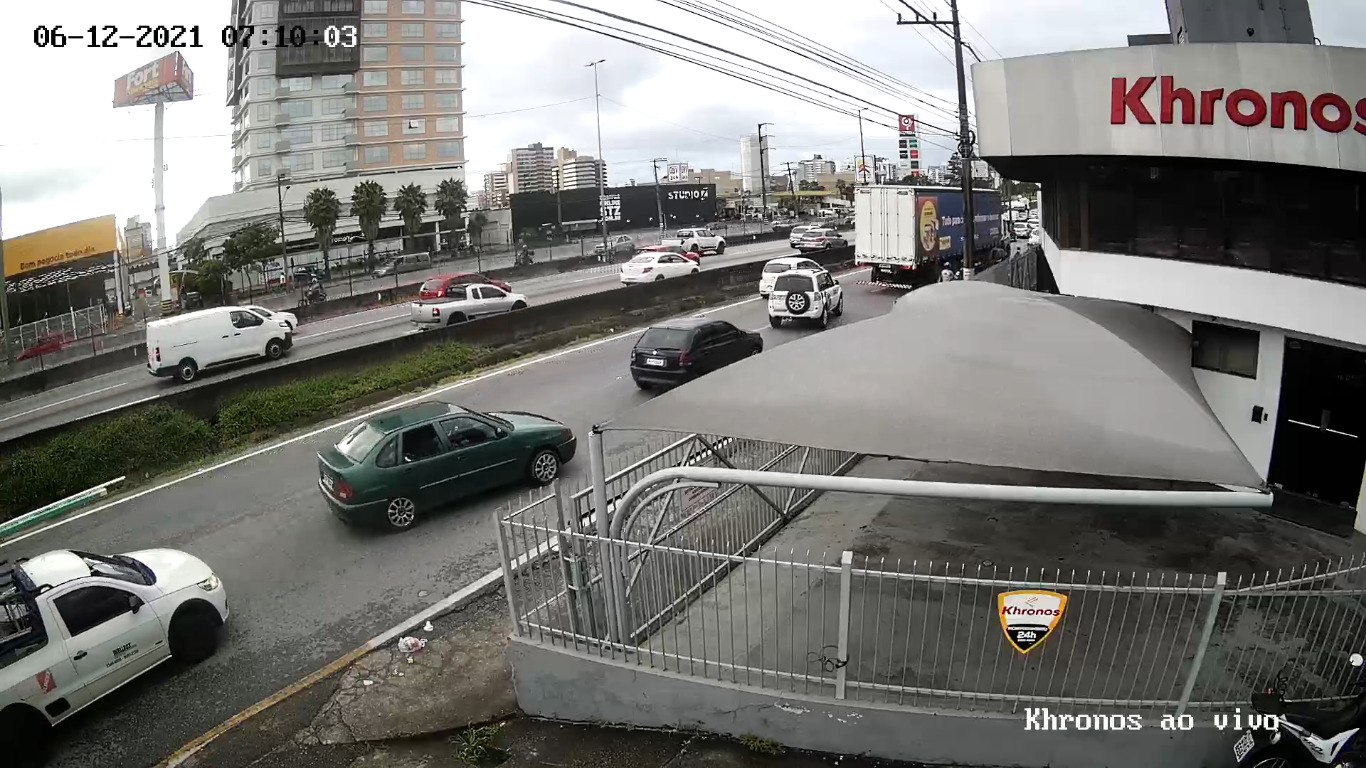car: (1, 546, 229, 763), (316, 400, 576, 531), (630, 315, 764, 390)
